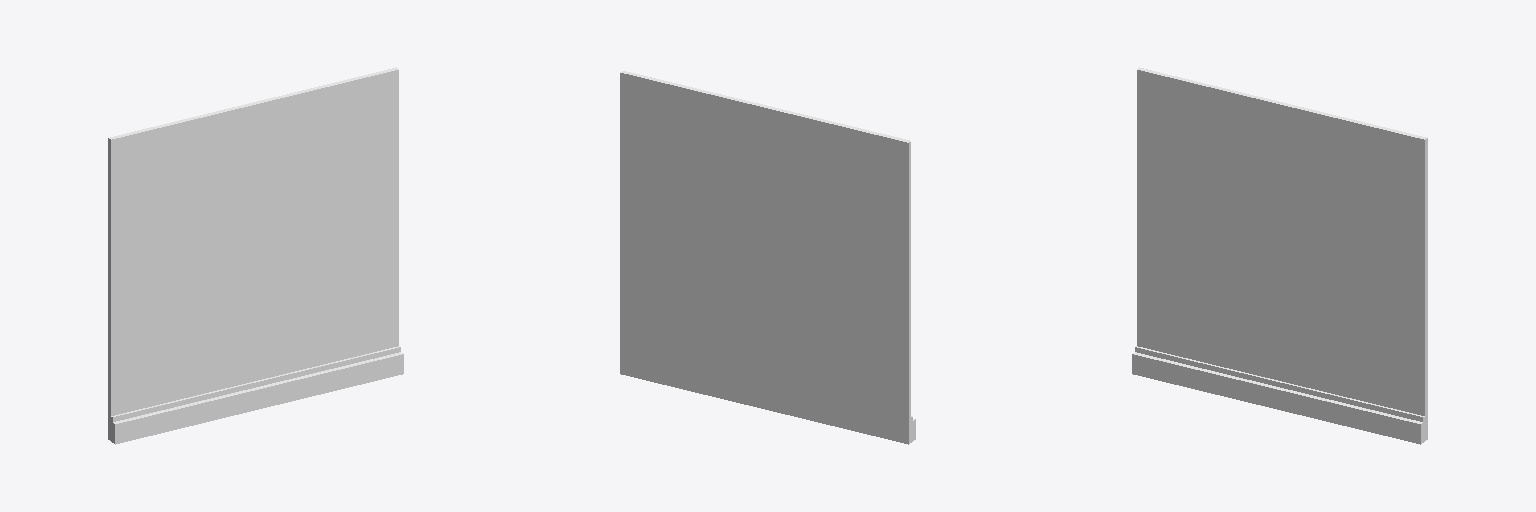
Rendered from w.vox.obj.
The picture shows the model from 3 angles: view 1: azimuth 30°, elevation 25°; view 2: azimuth 150°, elevation 25°; view 3: azimuth 330°, elevation 25°; orthographic projection.
Parts seen in each view (by area): view 1: wall paper; view 2: wall paper; view 3: wall paper.
Part boxes in pixels (x1,y1,x2,y2): wall paper: (108, 67, 403, 444); wall paper: (620, 71, 915, 444); wall paper: (1132, 67, 1427, 444).
Size of the model in its own units: 12 by 12 by 0.5.